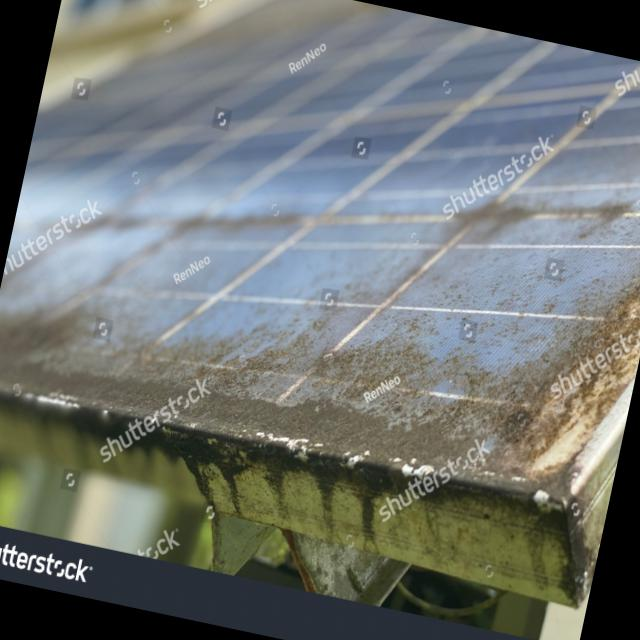faulty: (0, 0, 640, 490)
